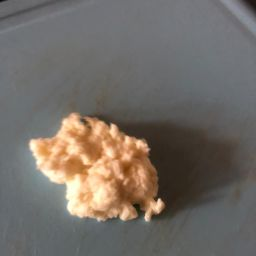Crumbled Feta: (18, 103, 189, 243), (97, 123, 165, 223), (62, 127, 117, 210)
